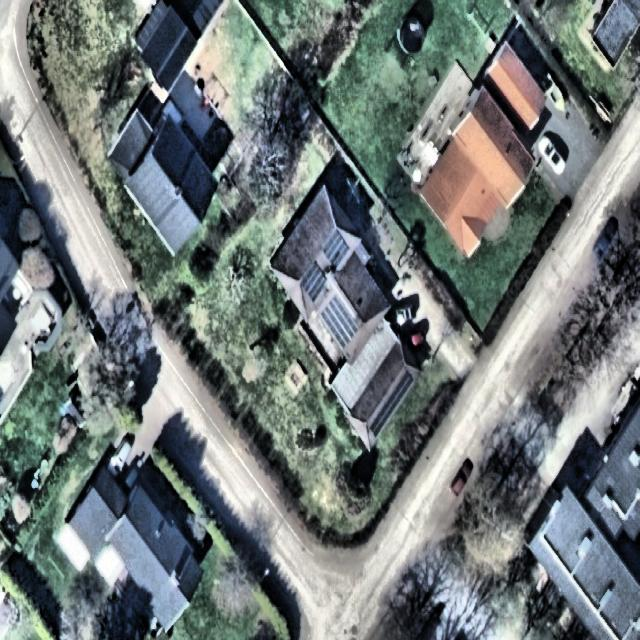roof_pv: (320, 298, 361, 349), (389, 366, 415, 419), (300, 262, 326, 304), (323, 230, 349, 267), (374, 397, 388, 439)
